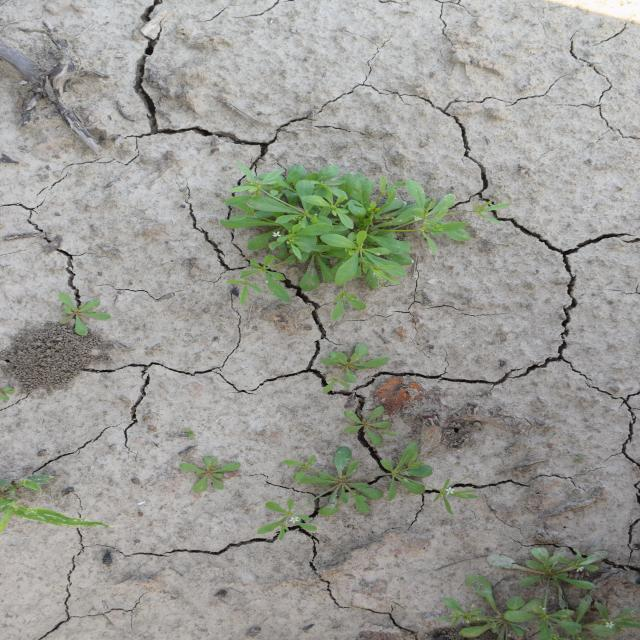Carpetweed: (218, 161, 512, 324), (254, 441, 482, 542), (433, 545, 639, 639), (318, 344, 392, 395), (174, 454, 244, 495), (56, 290, 113, 337), (340, 404, 400, 448)
